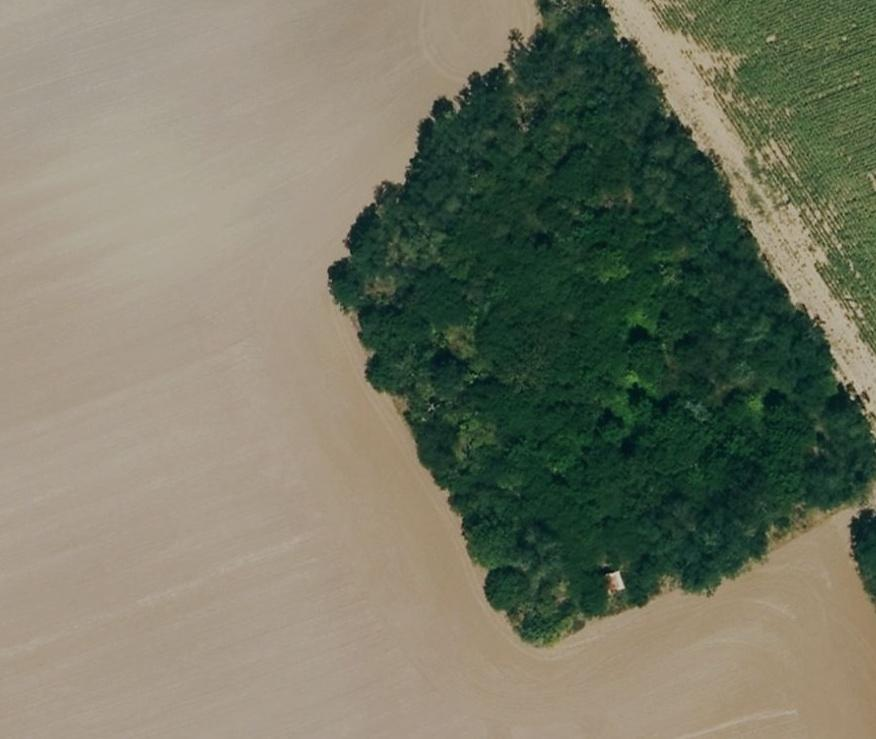field: (0, 3, 876, 737), (611, 2, 876, 422)
forest: (328, 3, 876, 642)
